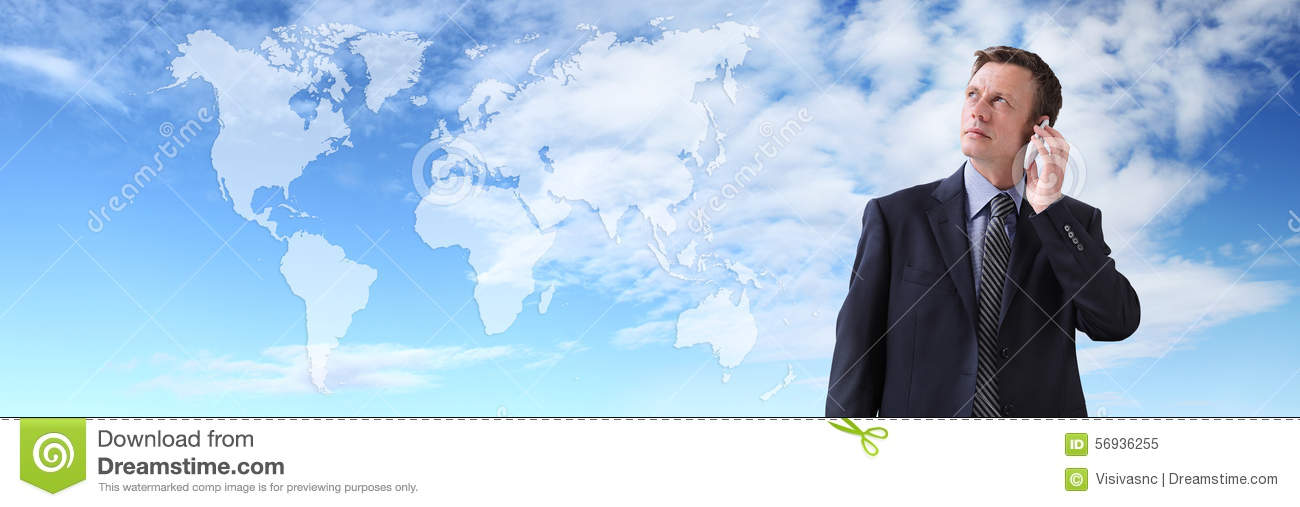phone: (1024, 122, 1051, 175)
talk: (957, 81, 1066, 212)
